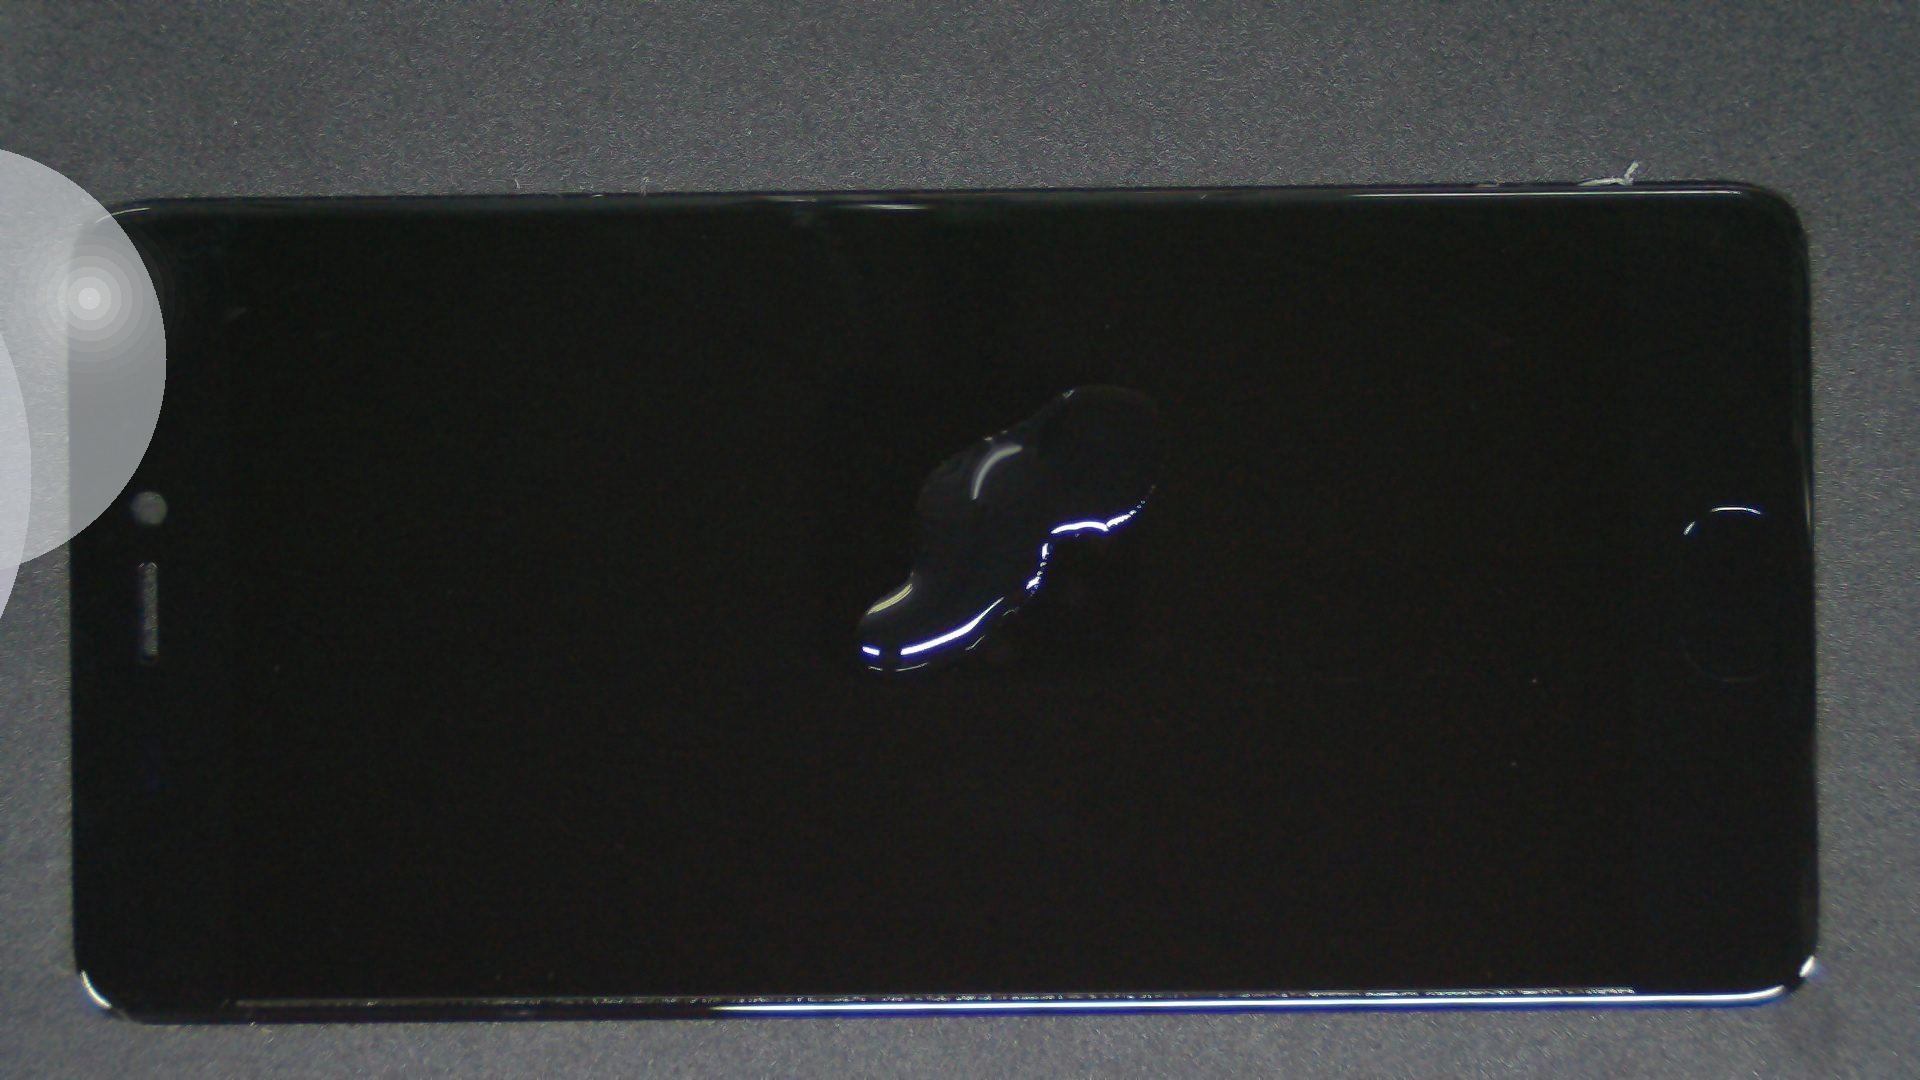oil: (550, 191, 1647, 575)
